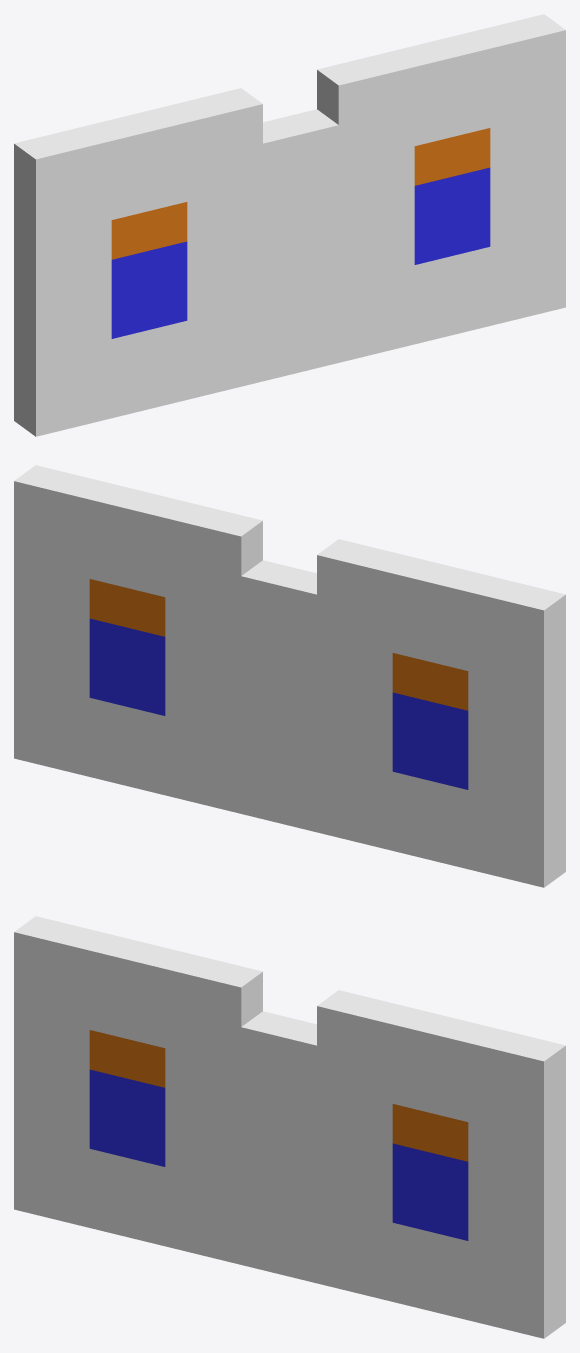
3 views of the same model, one above another, from view 1: azimuth 30°, elevation 25°; view 2: azimuth 150°, elevation 25°; view 3: azimuth 330°, elevation 25° (orthographic).
Visible parts, largest first — view 1: eye-shapes054, eye-shapes010, eye-shapes009; view 2: eye-shapes054, eye-shapes010, eye-shapes009; view 3: eye-shapes054, eye-shapes010, eye-shapes009.
Part boxes in pixels (x1=…): eye-shapes054: x1=14, y1=14, x2=565, y2=436; eye-shapes010: x1=111, y1=167, x2=490, y2=338; eye-shapes009: x1=111, y1=128, x2=490, y2=259; eye-shapes054: x1=14, y1=465, x2=565, y2=887; eye-shapes010: x1=89, y1=618, x2=468, y2=789; eye-shapes009: x1=89, y1=579, x2=468, y2=710; eye-shapes054: x1=14, y1=916, x2=565, y2=1338; eye-shapes010: x1=89, y1=1069, x2=468, y2=1240; eye-shapes009: x1=89, y1=1030, x2=468, y2=1161.
Size of the model in its own units: 140 by 70 by 10.
Materials: 3 (3 with a texture image).
